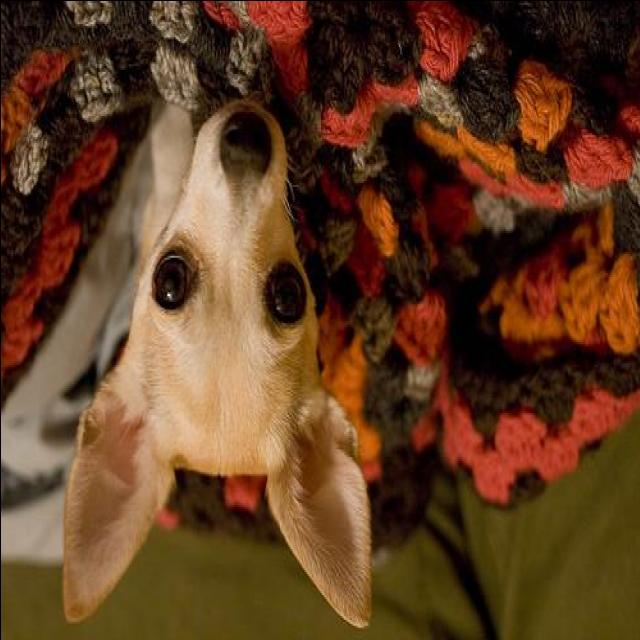chihuahua: (61, 96, 372, 628)
